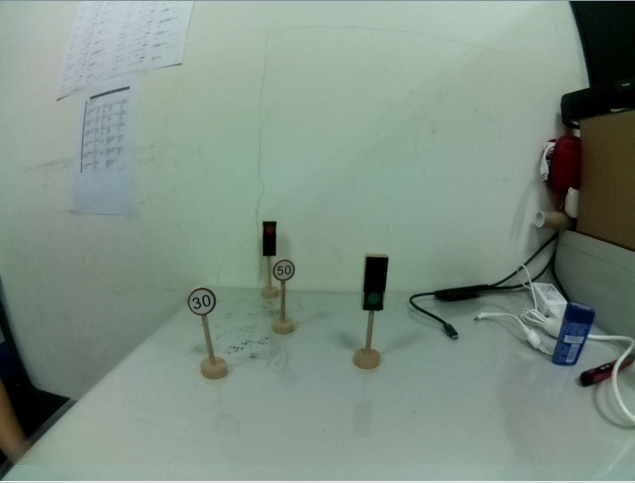Green: (357, 254, 393, 316)
Red: (259, 219, 278, 259)
Speed30: (184, 285, 219, 318)
Speed50: (273, 258, 296, 286)
